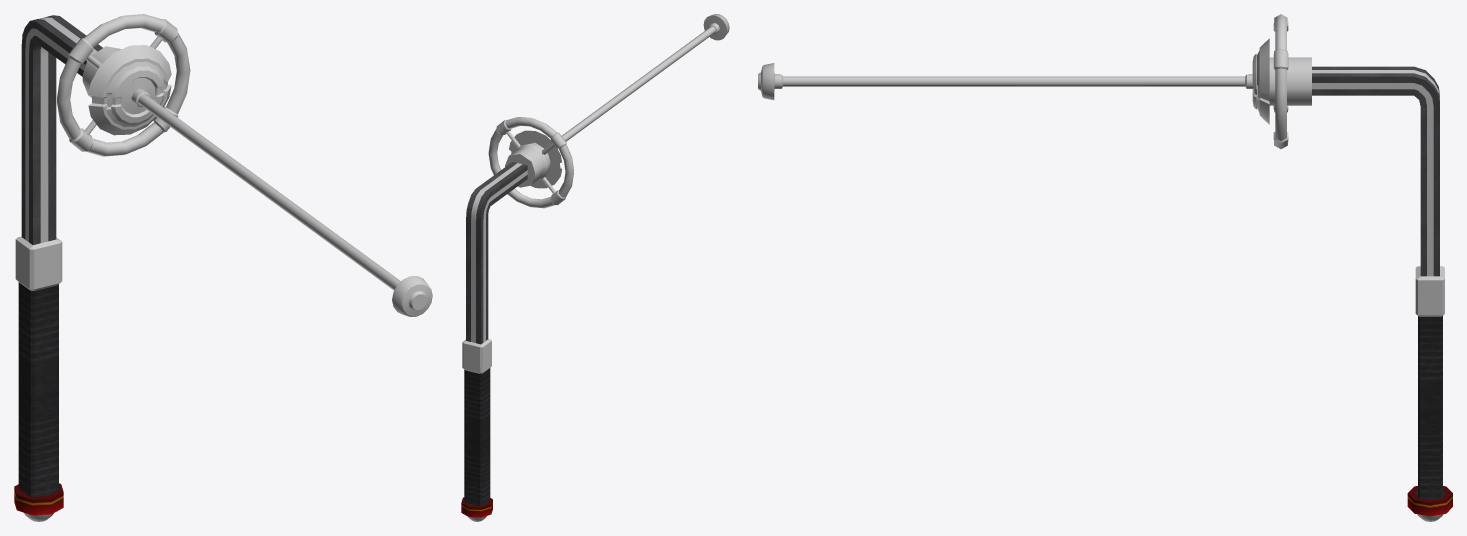
File: pole.fbx
3 views of the same model, side by side, from view 1: azimuth 30°, elevation 25°; view 2: azimuth 150°, elevation 25°; view 3: azimuth 270°, elevation 25° (orthographic). The views are drawn at different scales.
Parts seen in each view (by area): view 1: cmn_obj_pole_svA, cmn_obj_pole_svB.001, cmn_obj_pole_svC, cmn_obj_pole_svD; view 2: cmn_obj_pole_svA, cmn_obj_pole_svB.001, cmn_obj_pole_svC, cmn_obj_pole_svD; view 3: cmn_obj_pole_svA, cmn_obj_pole_svB.001, cmn_obj_pole_svC, cmn_obj_pole_svD.
Boxes of the visible parts, x1,y1,x2,y2 form: cmn_obj_pole_svA: [57, 14, 432, 316]; cmn_obj_pole_svB.001: [15, 15, 102, 290]; cmn_obj_pole_svC: [18, 282, 58, 497]; cmn_obj_pole_svD: [14, 483, 63, 521]; cmn_obj_pole_svA: [488, 14, 729, 208]; cmn_obj_pole_svB.001: [462, 162, 527, 373]; cmn_obj_pole_svC: [464, 368, 490, 506]; cmn_obj_pole_svD: [461, 497, 492, 521]; cmn_obj_pole_svA: [758, 14, 1311, 148]; cmn_obj_pole_svB.001: [1312, 66, 1444, 316]; cmn_obj_pole_svC: [1418, 316, 1442, 499]; cmn_obj_pole_svD: [1407, 486, 1452, 521].
Size of the model in its own units: 131 by 533 by 671.
